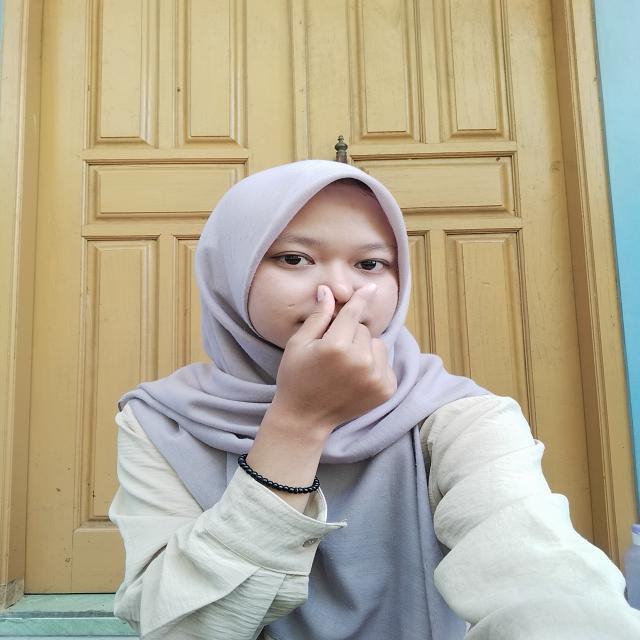bau: (262, 282, 406, 429)
